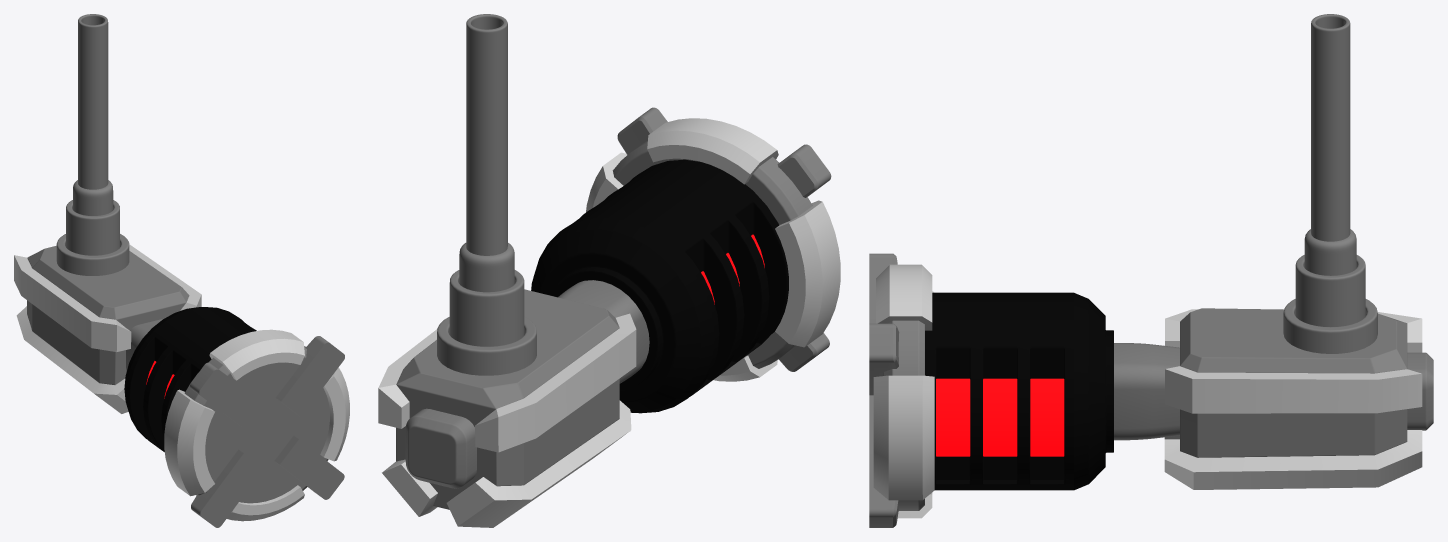
Rendered from LaserShooter2.fbx.
The picture shows the model from 3 angles, left to right: view 1: azimuth 30°, elevation 25°; view 2: azimuth 150°, elevation 25°; view 3: azimuth 270°, elevation 25°; orthographic projection. The views are drawn at different scales.
Visible parts, largest first — view 1: Cube.004, Cylinder.002, Cylinder.005, Cylinder.001, Cylinder.006_Plate, Cube.010, Cylinder.004, Cube.007, Cube.006, Cube.005, Cylinder.006_Plate.001, Cube.008 (+4 smaller); view 2: Cylinder.005, Cube.004, Cylinder.006_Plate, Cube.010, Cylinder.001, Cube.003, Cube.009, Cylinder.004, Cylinder.006_Plate.001, Cylinder.002, Cylinder.006_Plate.002, Cylinder.006 (+3 smaller); view 3: Cylinder.005, Cube.004, Cube.010, Cylinder.006_Plate, Cube.009, Cylinder.007, Cylinder.001, Cube.003, Cylinder.006_Plate.001, Cylinder.004, Cylinder.006_Plate.002, Cylinder.006 (+4 smaller).
Boxes of the visible parts, x1,y1,x2,y2 form: Cube.004: [27, 245, 189, 384]; Cylinder.002: [184, 346, 329, 503]; Cylinder.005: [124, 307, 256, 451]; Cylinder.001: [164, 367, 349, 496]; Cylinder.006_Plate: [78, 14, 108, 189]; Cube.010: [14, 244, 201, 351]; Cylinder.004: [209, 329, 304, 521]; Cube.007: [276, 336, 344, 416]; Cube.006: [191, 449, 263, 527]; Cube.005: [190, 362, 264, 428]; Cylinder.006_Plate.001: [66, 200, 119, 255]; Cube.008: [274, 435, 344, 499]; Cylinder.005: [531, 159, 788, 413]; Cube.004: [396, 289, 619, 509]; Cylinder.006_Plate: [466, 14, 507, 255]; Cube.010: [378, 313, 636, 452]; Cylinder.001: [586, 152, 840, 347]; Cube.003: [405, 280, 649, 488]; Cube.009: [382, 400, 631, 527]; Cylinder.004: [647, 118, 778, 381]; Cylinder.006_Plate.001: [449, 270, 524, 346]; Cylinder.002: [613, 140, 812, 368]; Cylinder.006_Plate.002: [437, 316, 536, 375]; Cylinder.006: [459, 243, 514, 292]; Cylinder.005: [925, 292, 1113, 490]; Cube.004: [1180, 308, 1407, 457]; Cube.010: [1165, 309, 1422, 413]; Cylinder.006_Plate: [1311, 14, 1350, 241]; Cube.009: [1164, 430, 1422, 489]; Cylinder.007: [936, 378, 1064, 456]; Cylinder.001: [873, 291, 934, 500]; Cube.003: [1114, 343, 1433, 440]; Cylinder.006_Plate.001: [1295, 255, 1365, 326]; Cylinder.004: [876, 264, 932, 518]; Cylinder.006_Plate.002: [1283, 299, 1377, 353]; Cylinder.006: [1304, 229, 1356, 275].
Bounding box in the file's own units: 1249 × 2587 × 2730.
